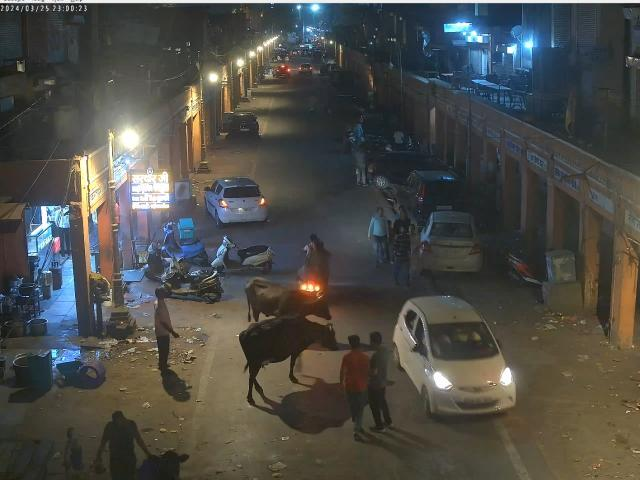car: (392, 294, 518, 418), (417, 210, 482, 274), (390, 170, 470, 222), (203, 176, 267, 226), (372, 150, 444, 187)
cattle: (237, 314, 338, 403), (245, 275, 332, 322), (138, 448, 190, 480)
license_plate: (464, 396, 496, 406), (443, 248, 462, 254), (237, 208, 253, 213), (436, 205, 452, 210)
no_helmet: (313, 240, 323, 251), (308, 235, 319, 244)
person: (89, 407, 153, 480), (342, 333, 369, 442), (366, 329, 394, 430), (154, 286, 176, 374), (366, 204, 392, 265), (392, 227, 409, 285)
scooty: (158, 258, 224, 302), (211, 235, 274, 275), (162, 222, 206, 265), (142, 240, 182, 279)
scooty-rider: (296, 235, 332, 295)
